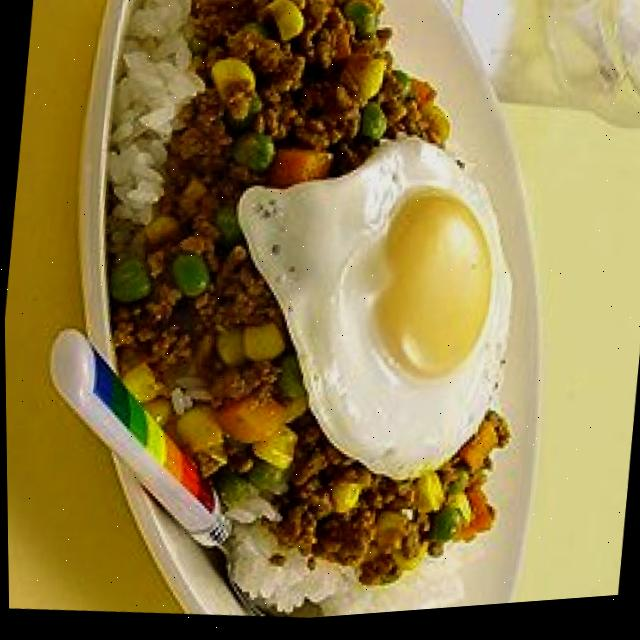鸡蛋料理: (233, 97, 540, 519)
